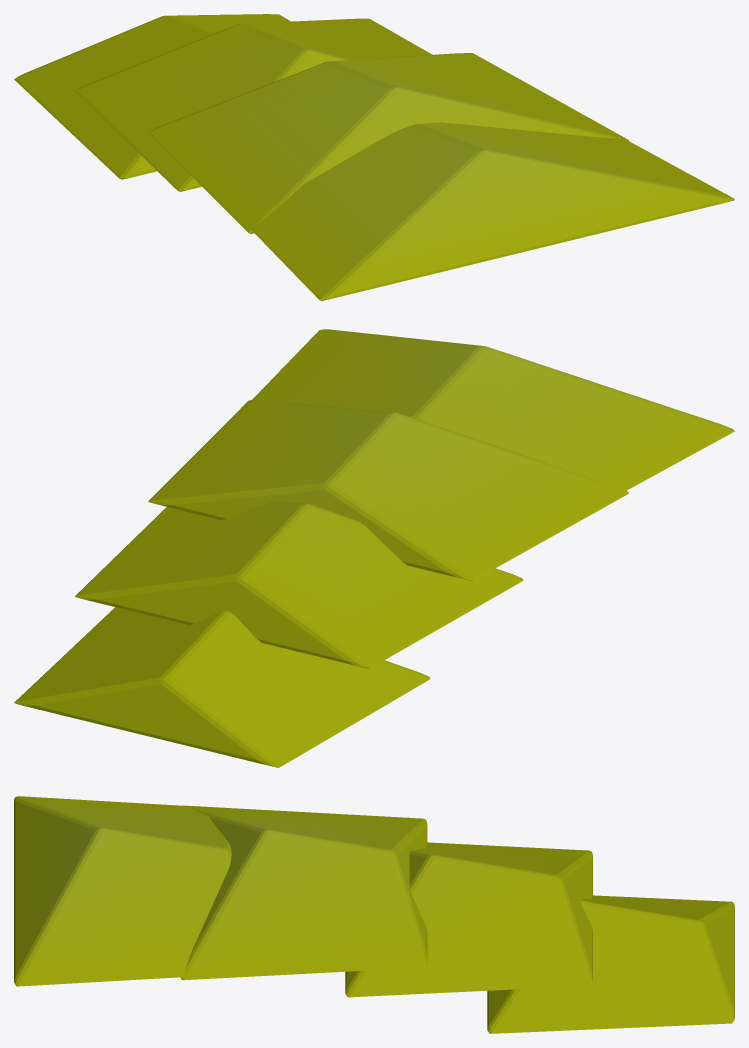
The model's file is GXR_BACK_04_CARAPACE.glb.
3 renders of one model, top to bottom at view 1: azimuth 30°, elevation 25°; view 2: azimuth 150°, elevation 25°; view 3: azimuth 270°, elevation 25°, orthographic. The views are drawn at different scales.
Visible parts, largest first — view 1: Mesh_Carapace_plate, Mesh_Carapace_plate.001, Mesh_Carapace_plate.002, Mesh_Carapace_plate.003; view 2: Mesh_Carapace_plate.001, Mesh_Carapace_plate.002, Mesh_Carapace_plate.003, Mesh_Carapace_plate; view 3: Mesh_Carapace_plate, Mesh_Carapace_plate.001, Mesh_Carapace_plate.002, Mesh_Carapace_plate.003.
Boxes of the visible parts, x1,y1,x2,y2 form: Mesh_Carapace_plate: [249, 112, 734, 300]; Mesh_Carapace_plate.001: [148, 53, 628, 233]; Mesh_Carapace_plate.002: [75, 18, 432, 191]; Mesh_Carapace_plate.003: [14, 14, 290, 179]; Mesh_Carapace_plate.001: [148, 400, 628, 580]; Mesh_Carapace_plate.002: [75, 501, 523, 668]; Mesh_Carapace_plate.003: [14, 607, 430, 767]; Mesh_Carapace_plate: [222, 329, 734, 493]; Mesh_Carapace_plate: [14, 796, 258, 986]; Mesh_Carapace_plate.001: [180, 805, 427, 980]; Mesh_Carapace_plate.002: [345, 842, 592, 997]; Mesh_Carapace_plate.003: [487, 895, 734, 1033].
Size of the model in its own units: 0.2855 by 0.0939 by 0.457.
